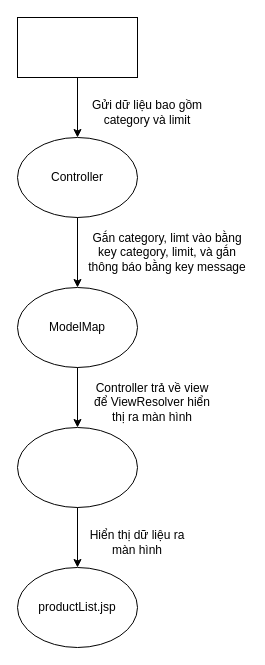
Image size: 265x665. Some labels were removed from this diagram. Here are the shapes that lost their labels. From the top down, the centre of each, then its label:
At [77,47]: "Client".
At [77,467]: "ViewResolver".
